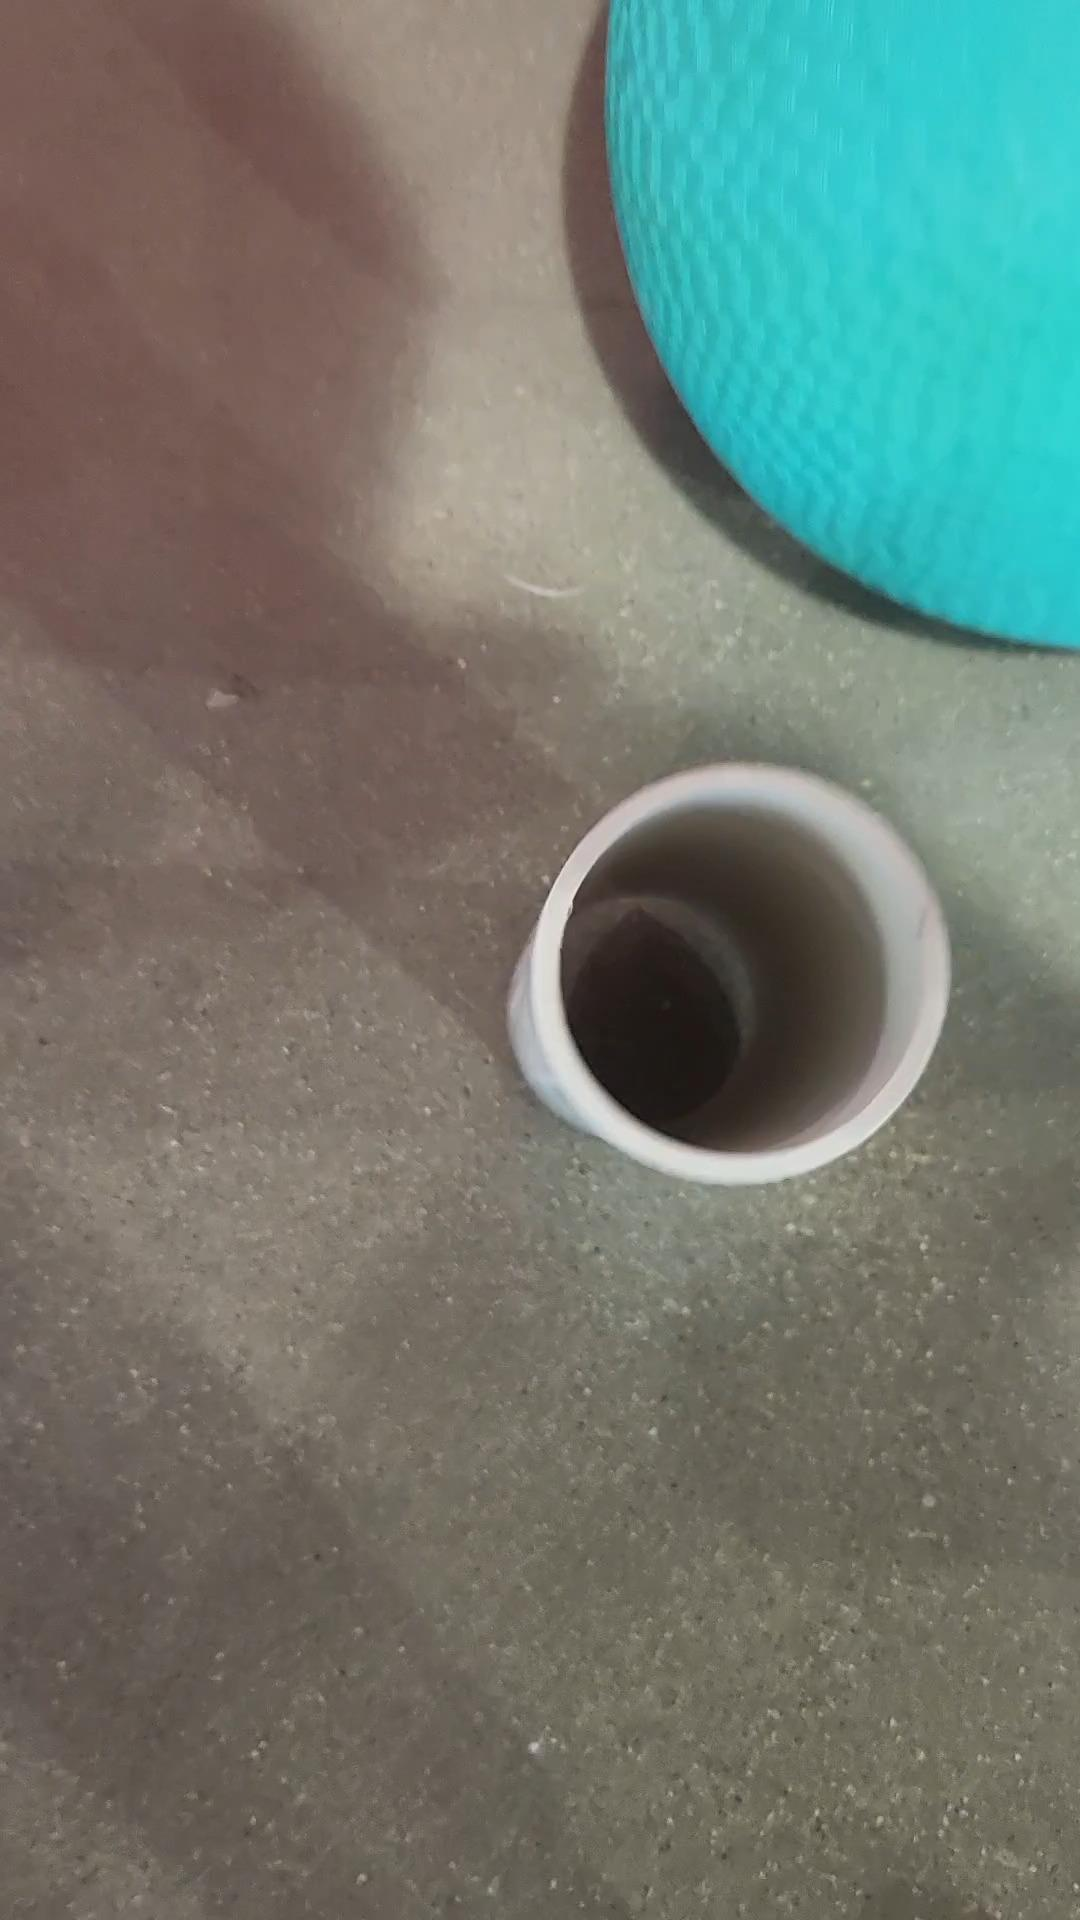algae: (541, 7, 1080, 637)
coral: (471, 731, 994, 1229)
